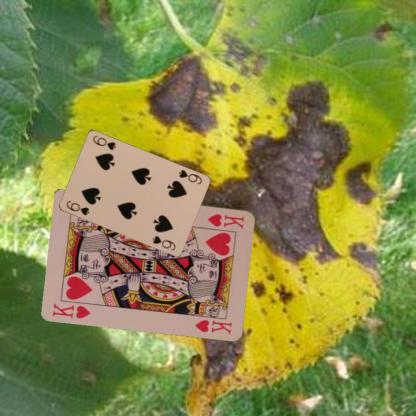6s: (64, 198, 90, 217), (176, 167, 202, 185)
Kh: (50, 300, 92, 320), (205, 211, 246, 230)
